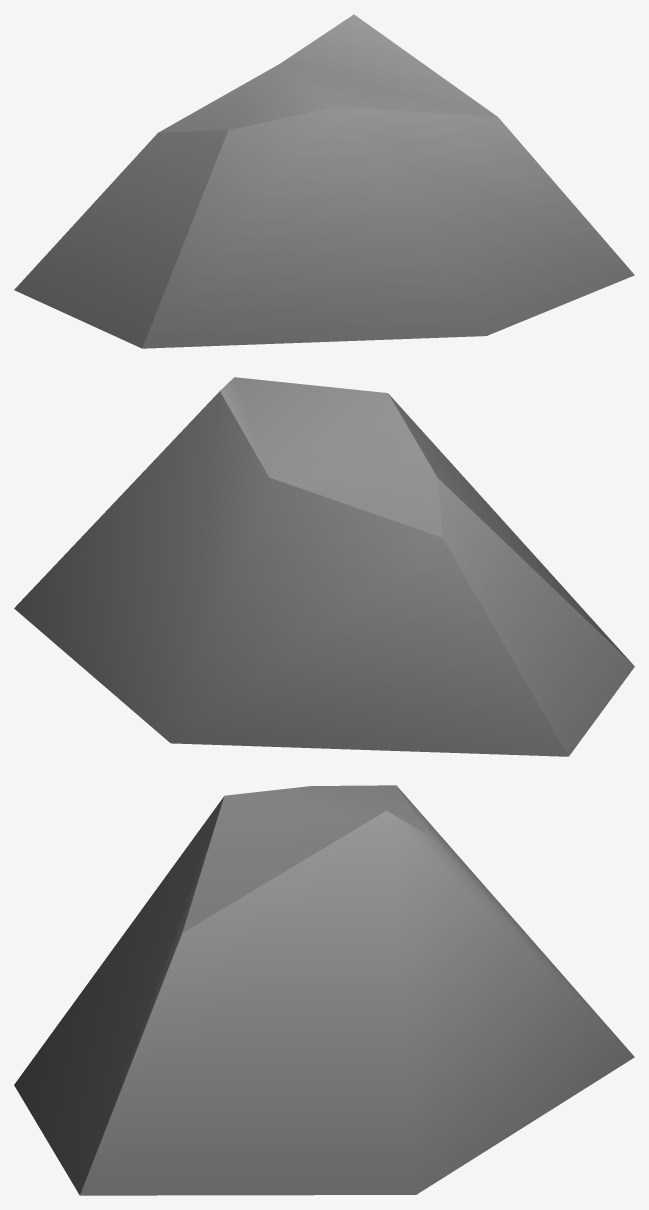
File: Rock003.glb
3 views of the same model, one above another, from view 1: azimuth 30°, elevation 25°; view 2: azimuth 150°, elevation 25°; view 3: azimuth 270°, elevation 25° (orthographic). The views are drawn at different scales.
Parts seen in each view (by area): view 1: Rock003; view 2: Rock003; view 3: Rock003.
Boxes of the visible parts, x1=… form: Rock003: x1=14, y1=14, x2=634, y2=348; Rock003: x1=14, y1=377, x2=634, y2=756; Rock003: x1=14, y1=785, x2=634, y2=1195.
Size of the model in its own units: 480 by 205 by 411.
1 material, 1 textured.
